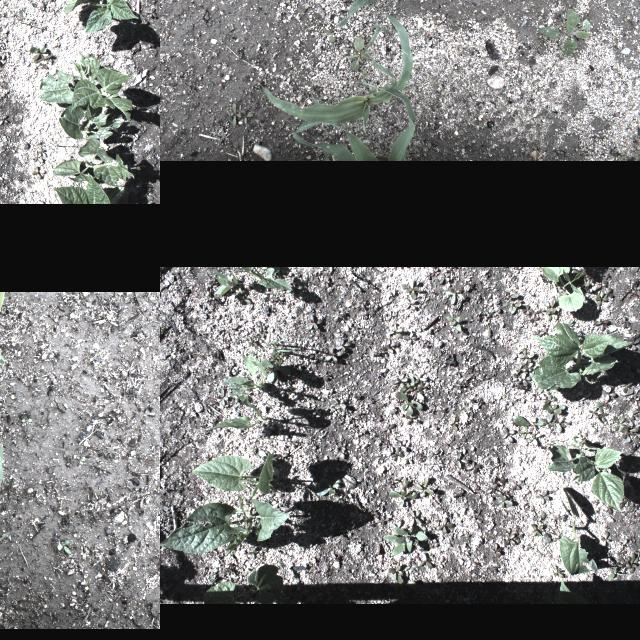crop: (260, 8, 414, 134), (292, 84, 416, 160), (160, 496, 289, 556), (532, 322, 632, 391), (548, 436, 624, 512), (192, 452, 280, 506), (54, 137, 134, 187), (70, 68, 134, 122), (278, 0, 404, 26), (38, 172, 140, 204), (40, 52, 100, 104), (201, 564, 283, 602), (59, 100, 124, 140), (63, 0, 138, 32), (223, 354, 273, 402), (558, 516, 598, 576), (206, 392, 266, 431), (542, 266, 584, 312), (218, 266, 292, 290), (556, 580, 580, 602)
weed: (538, 8, 592, 58), (383, 520, 429, 556), (214, 269, 252, 303), (512, 414, 548, 446), (345, 36, 371, 72), (542, 403, 566, 433), (396, 392, 422, 416), (266, 348, 284, 382), (316, 478, 342, 498), (388, 490, 416, 508), (29, 42, 53, 62), (400, 374, 420, 394), (414, 477, 434, 497), (444, 288, 468, 304), (324, 345, 344, 363), (390, 373, 408, 393), (402, 278, 418, 300), (444, 314, 462, 332), (620, 425, 638, 443), (436, 518, 456, 534), (504, 530, 524, 546), (587, 398, 603, 418), (583, 270, 599, 290), (543, 298, 557, 320), (388, 566, 404, 584), (602, 386, 620, 402), (518, 348, 534, 366), (57, 540, 77, 554), (626, 552, 638, 574), (456, 449, 469, 469), (388, 322, 404, 338), (618, 377, 634, 393), (308, 313, 322, 331), (336, 338, 354, 352), (418, 552, 432, 570), (464, 458, 482, 472), (486, 483, 504, 497), (613, 414, 627, 432), (514, 372, 532, 386), (493, 495, 513, 507), (215, 389, 228, 407), (625, 334, 640, 349), (19, 8, 35, 22), (238, 110, 254, 124), (354, 70, 368, 86), (382, 339, 398, 353), (408, 510, 422, 526), (536, 489, 550, 505), (530, 522, 544, 538), (142, 184, 154, 202), (502, 425, 514, 443), (600, 530, 610, 550), (322, 28, 336, 42), (232, 102, 240, 126), (330, 398, 346, 410), (490, 543, 502, 559), (594, 318, 610, 330), (602, 286, 614, 302), (591, 278, 607, 290), (503, 302, 522, 312), (403, 332, 419, 343), (439, 270, 451, 284), (552, 564, 564, 578), (618, 555, 632, 567), (411, 372, 427, 382), (608, 568, 624, 578), (596, 291, 606, 307), (32, 166, 44, 178), (334, 308, 346, 320), (404, 297, 416, 309), (392, 448, 404, 460), (624, 416, 636, 428), (542, 394, 556, 404), (598, 408, 608, 422), (504, 377, 518, 387), (33, 150, 43, 162), (145, 6, 157, 16), (522, 305, 534, 315), (511, 480, 523, 490), (514, 364, 526, 374), (38, 146, 46, 156), (237, 105, 245, 115), (620, 152, 630, 160), (76, 456, 86, 464), (0, 114, 7, 124), (22, 417, 32, 423), (40, 62, 49, 68), (230, 22, 234, 30)
